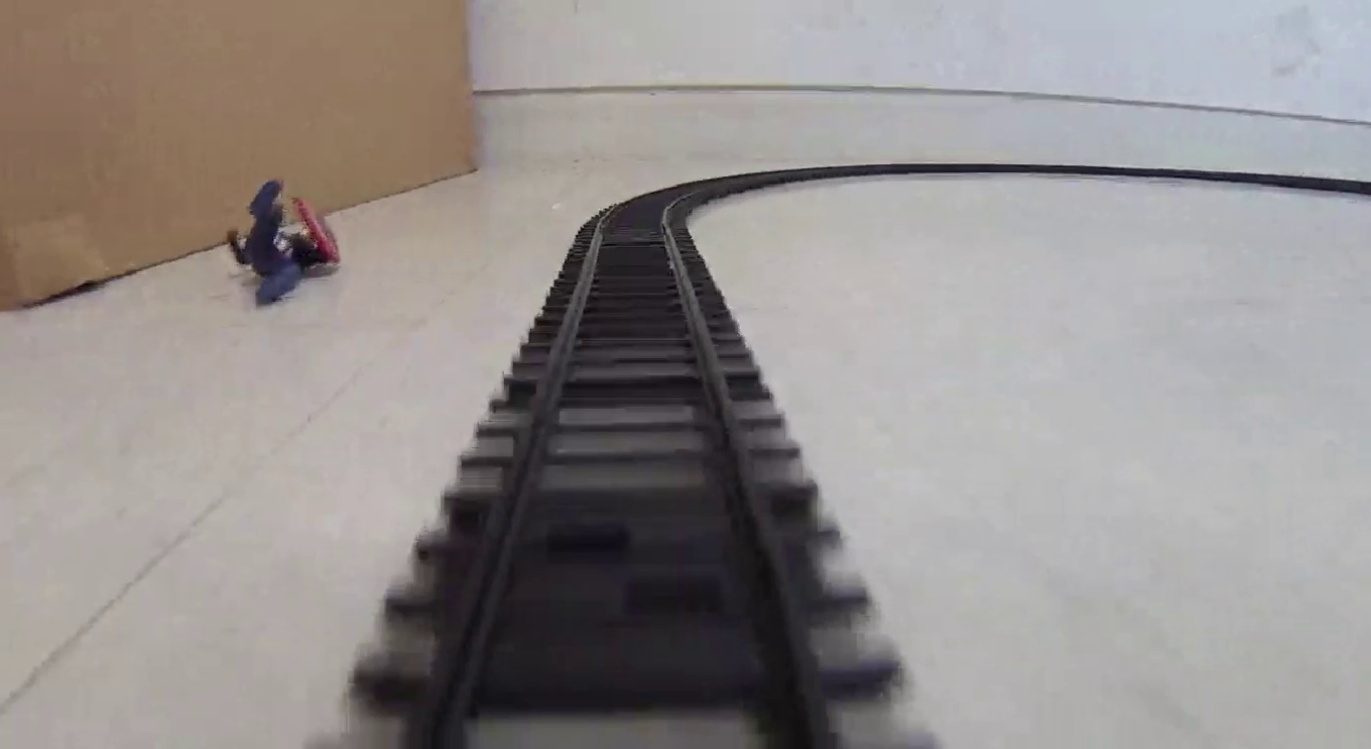people: (230, 179, 342, 309)
